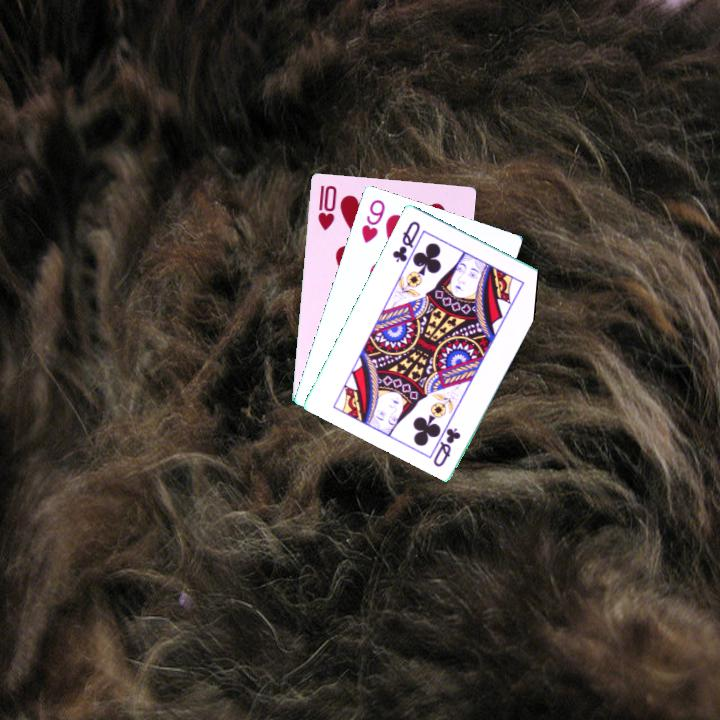10h: (314, 181, 339, 233)
9h: (358, 196, 388, 246)
Qc: (389, 217, 423, 265), (430, 424, 463, 469)
